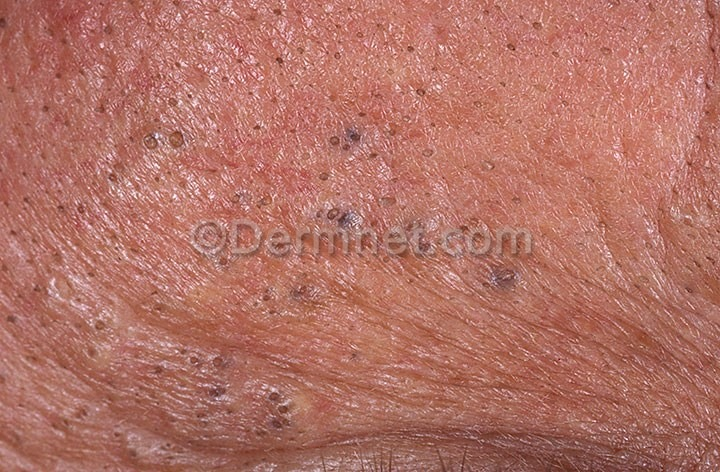Acne: (14, 13, 565, 438)
